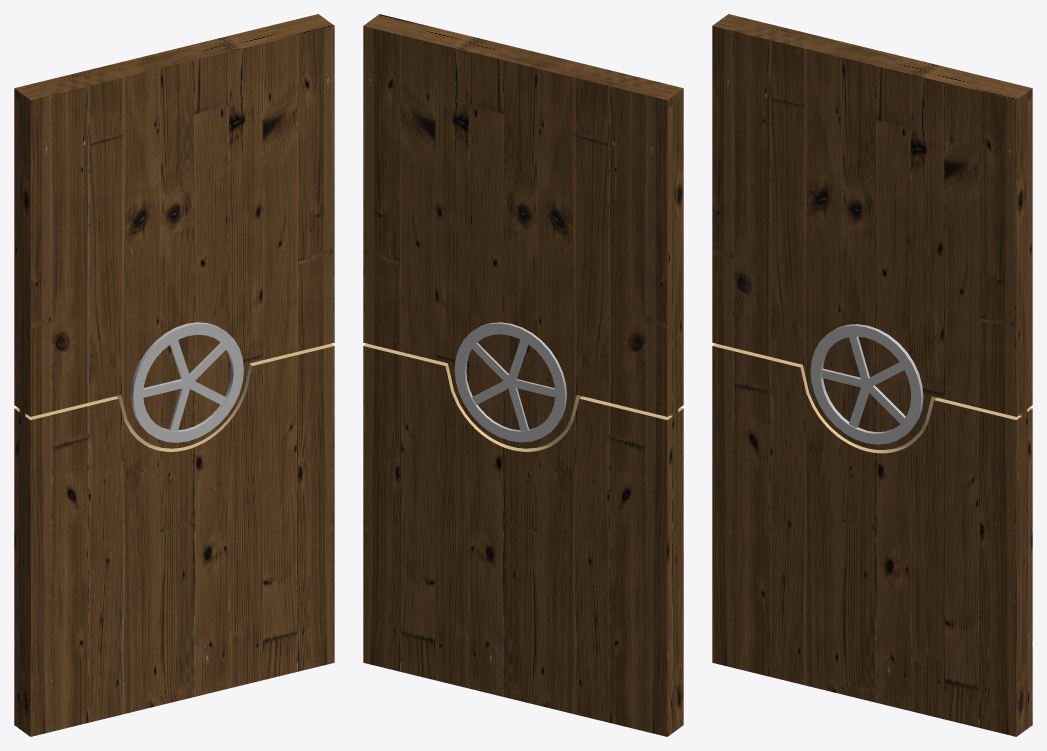
Rendered from porte2.fbx.
The picture shows the model from 3 angles, left to right: view 1: azimuth 30°, elevation 25°; view 2: azimuth 150°, elevation 25°; view 3: azimuth 330°, elevation 25°; orthographic projection.
Parts seen in each view (by area): view 1: Cube; view 2: Cube; view 3: Cube.
Part boxes in pixels (box(x1,y1,x2,y2)): Cube: box(14, 14, 334, 736); Cube: box(363, 14, 683, 736); Cube: box(712, 14, 1032, 736).
Size of the model in its own units: 100 by 200 by 11.43.
